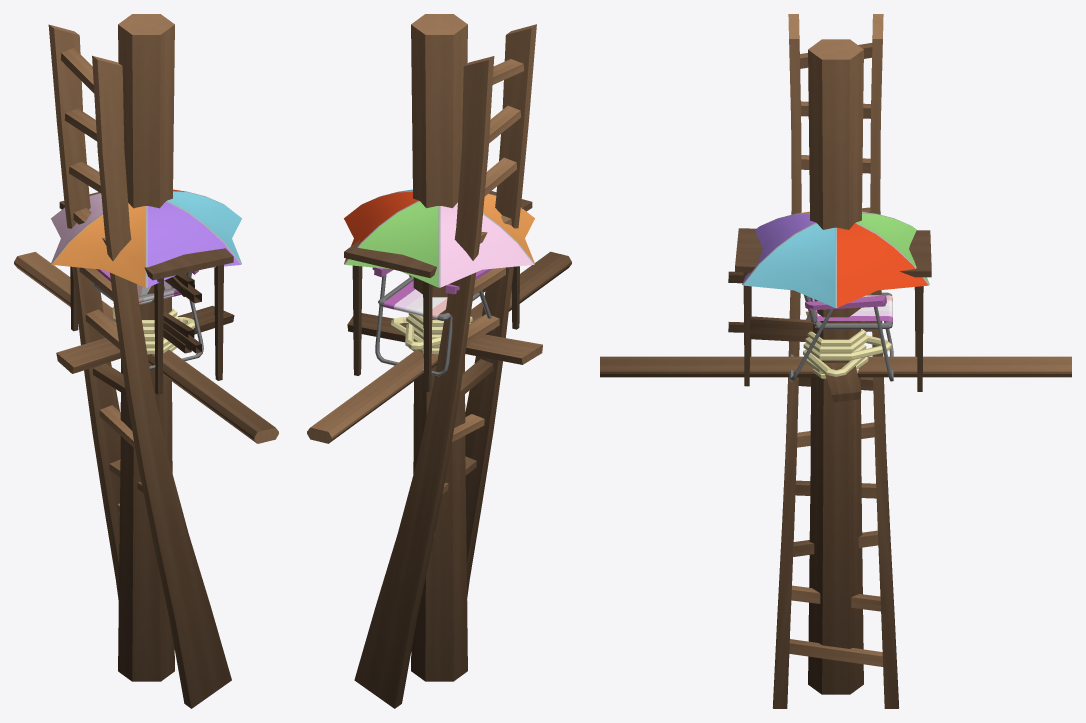
File: Asset_.fbx
3 renders of one model, left to right at view 1: azimuth 30°, elevation 25°; view 2: azimuth 150°, elevation 25°; view 3: azimuth 270°, elevation 25°, orthographic.
Parts seen in each view (by area): view 1: SM_Ladder, SM_Pole, SM_Umbrella, SM_Plank, SM_Table, SM_Extra_Plank, SM_Chair, SM_Fence_01, SM_Fence_03; view 2: SM_Ladder, SM_Pole, SM_Umbrella, SM_Plank, SM_Table, SM_Chair, SM_Extra_Plank, SM_Rope_01, SM_Rope_02; view 3: SM_Pole, SM_Ladder, SM_Umbrella, SM_Plank, SM_Table, SM_Chair, SM_Rope_01, SM_Extra_Plank, SM_Fence_03, SM_Rope_02.
Boxes of the visible parts, left/top/right/bottom form: SM_Ladder: left=48, top=24, right=231, bottom=708; SM_Pole: left=118, top=14, right=174, bottom=681; SM_Umbrella: left=51, top=189, right=241, bottom=287; SM_Plank: left=14, top=251, right=278, bottom=443; SM_Table: left=59, top=192, right=233, bottom=394; SM_Extra_Plank: left=56, top=305, right=234, bottom=373; SM_Chair: left=94, top=269, right=203, bottom=369; SM_Fence_01: left=163, top=278, right=201, bottom=353; SM_Fence_03: left=163, top=273, right=194, bottom=337; SM_Ladder: left=354, top=24, right=536, bottom=708; SM_Pole: left=411, top=14, right=467, bottom=681; SM_Umbrella: left=344, top=189, right=534, bottom=287; SM_Plank: left=307, top=251, right=571, bottom=443; SM_Table: left=344, top=191, right=532, bottom=392; SM_Chair: left=372, top=267, right=494, bottom=376; SM_Extra_Plank: left=347, top=313, right=542, bottom=364; SM_Rope_01: left=405, top=313, right=472, bottom=349; SM_Rope_02: left=391, top=317, right=441, bottom=354; SM_Pole: left=808, top=39, right=863, bottom=694; SM_Ladder: left=772, top=14, right=899, bottom=708; SM_Umbrella: left=742, top=211, right=929, bottom=307; SM_Plank: left=600, top=356, right=1071, bottom=377; SM_Table: left=735, top=228, right=931, bottom=391; SM_Chair: left=789, top=292, right=893, bottom=381; SM_Rope_01: left=803, top=329, right=891, bottom=360; SM_Extra_Plank: left=805, top=311, right=861, bottom=402; SM_Fence_03: left=750, top=316, right=812, bottom=333; SM_Rope_02: left=803, top=344, right=868, bottom=378.
Size of the model in its own units: 132 by 440 by 288.
